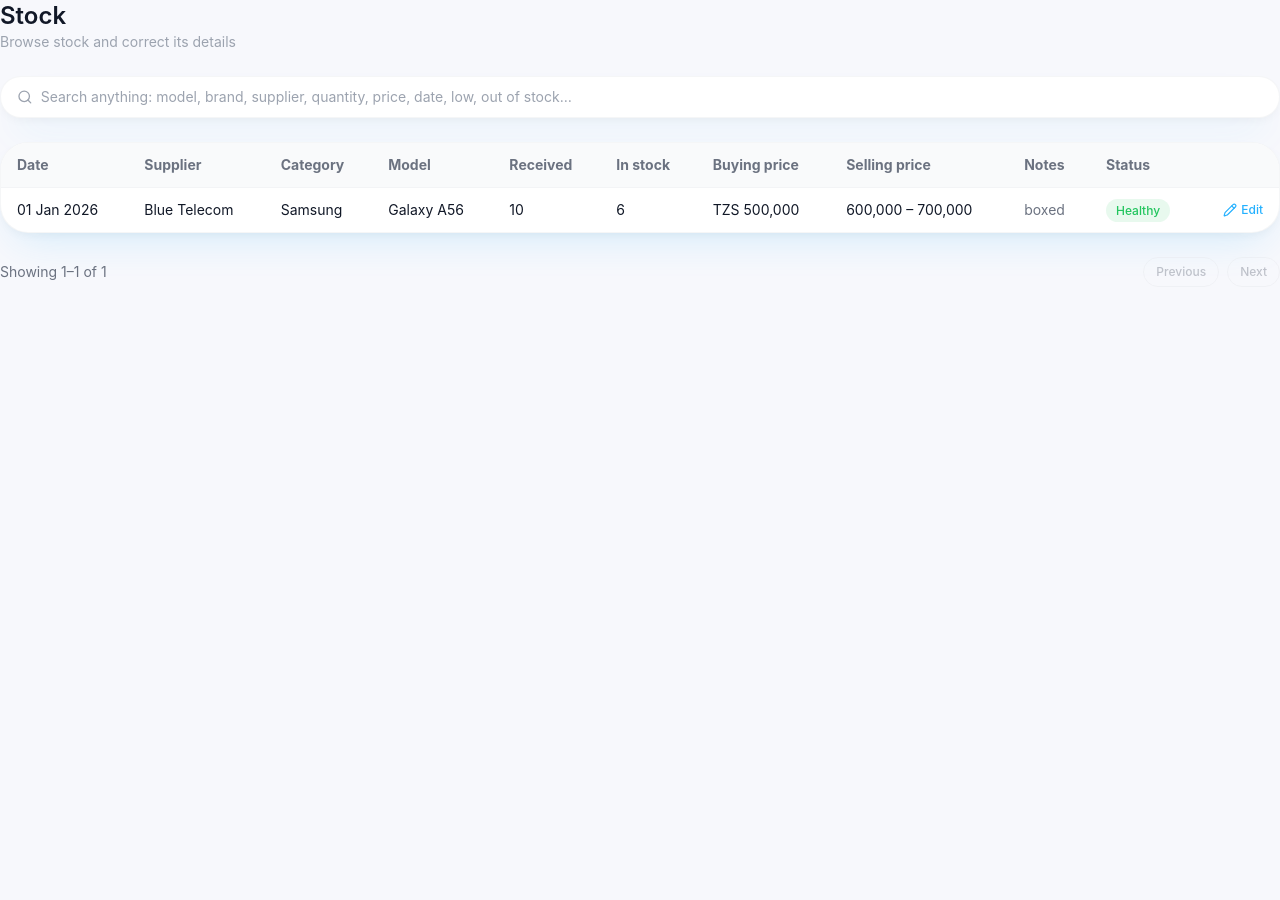
Editing a stock line › warns that a price change also changes profit on what was already sold
Click the button "Edit" at (1243, 210), box [1223,202,1263,218]
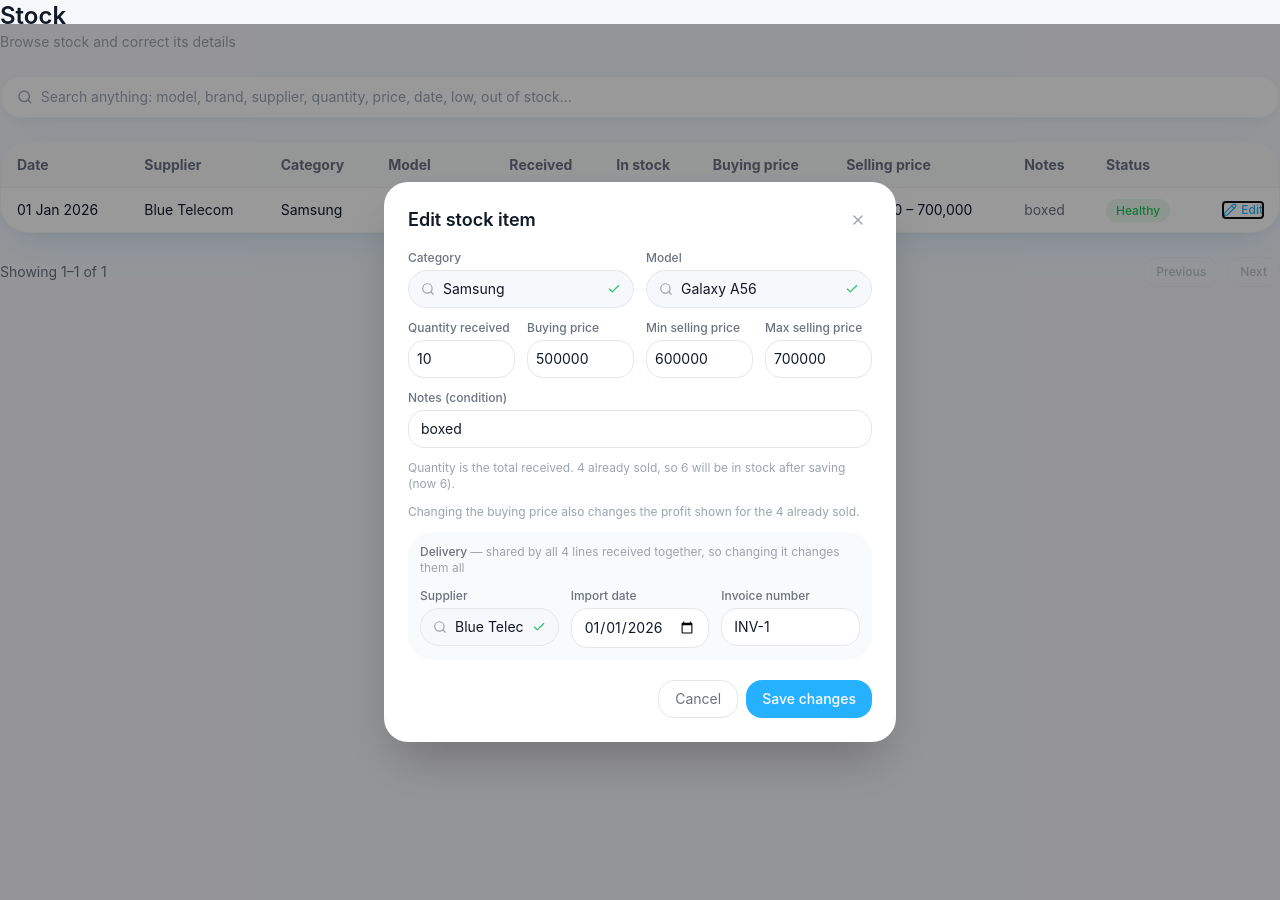
Check: the text "changes the profit shown for the 4 already sold" is shown, box [408,504,872,520]
